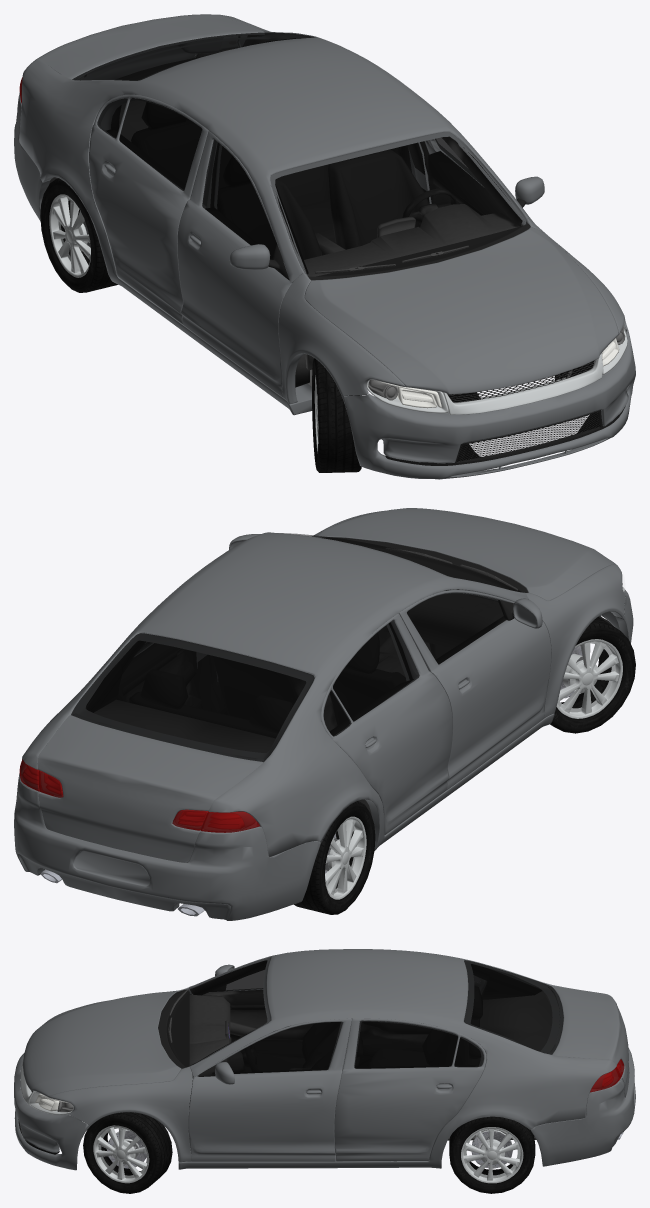
Rendered from sedan.glb.
The picture shows the model from 3 angles, top to bottom: view 1: azimuth 30°, elevation 25°; view 2: azimuth 150°, elevation 25°; view 3: azimuth 270°, elevation 25°; orthographic projection. The views are drawn at different scales.
Visible parts, largest first — view 1: sedan-unibody_65, hood_60, windshield_102, bumper-front_8, door-front-r_17, door-rear-r_23, trunk_99, fender-front-r_33, front-seat-backrest_39, dashboard_13, rear-seat-backseat_63, door-rear-window-glass-r_27 (+22 smaller); view 2: sedan-unibody_65, trunk_99, glass-rear_42, bumper-rear_10, door-front-r_17, door-rear-r_23, hood_60, fender-front-r_33, door-rear-window-glass-r_27, door-front-window-glass-r_19, dashboard_13, rear-seat-backseat_63 (+17 smaller); view 3: sedan-unibody_65, CDoor_FL, door-rear-l_22, hood_60, windshield_102, glass-rear_42, fender-front-l_32, bumper-rear_10, trunk_99, door-rear-window-glass-l_26, bumper-front_8, generic-tire-low_121 (+19 smaller).
Part boxes in pixels (bbox=[...]): sedan-unibody_65: bbox=[19, 14, 533, 415]; hood_60: bbox=[304, 227, 618, 394]; windshield_102: bbox=[270, 132, 527, 276]; bumper-front_8: bbox=[342, 328, 635, 479]; door-front-r_17: bbox=[177, 131, 292, 396]; door-rear-r_23: bbox=[89, 94, 208, 324]; trunk_99: bbox=[39, 14, 264, 79]; fender-front-r_33: bbox=[278, 273, 404, 404]; front-seat-backrest_39: bbox=[328, 149, 428, 249]; dashboard_13: bbox=[304, 204, 521, 370]; rear-seat-backseat_63: bbox=[131, 102, 330, 206]; door-rear-window-glass-r_27: bbox=[119, 98, 202, 190]; sedan-unibody_65: bbox=[20, 532, 554, 856]; trunk_99: bbox=[37, 713, 263, 862]; glass-rear_42: bbox=[71, 633, 314, 761]; bumper-rear_10: bbox=[14, 773, 320, 920]; door-front-r_17: bbox=[399, 590, 551, 789]; door-rear-r_23: bbox=[321, 613, 452, 835]; hood_60: bbox=[312, 508, 615, 600]; fender-front-r_33: bbox=[525, 564, 625, 718]; door-rear-window-glass-r_27: bbox=[333, 620, 419, 721]; door-front-window-glass-r_19: bbox=[407, 593, 505, 664]; dashboard_13: bbox=[378, 594, 503, 659]; rear-seat-backseat_63: bbox=[129, 669, 292, 737]; sedan-unibody_65: bbox=[178, 949, 621, 1169]; CDoor_FL: bbox=[188, 1018, 351, 1161]; door-rear-l_22: bbox=[334, 1018, 486, 1161]; hood_60: bbox=[22, 990, 181, 1097]; windshield_102: bbox=[167, 957, 270, 1067]; glass-rear_42: bbox=[464, 960, 563, 1054]; fender-front-l_32: bbox=[49, 1066, 192, 1162]; bumper-rear_10: bbox=[530, 1048, 635, 1166]; trunk_99: bbox=[548, 986, 629, 1097]; door-rear-window-glass-l_26: bbox=[354, 1020, 457, 1068]; bumper-front_8: bbox=[14, 1053, 89, 1170]; generic-tire-low_121: bbox=[83, 1112, 172, 1193].
Bounding box in the file's own units: 2.16 × 1.5 × 4.98.
19 materials, 8 textured.
